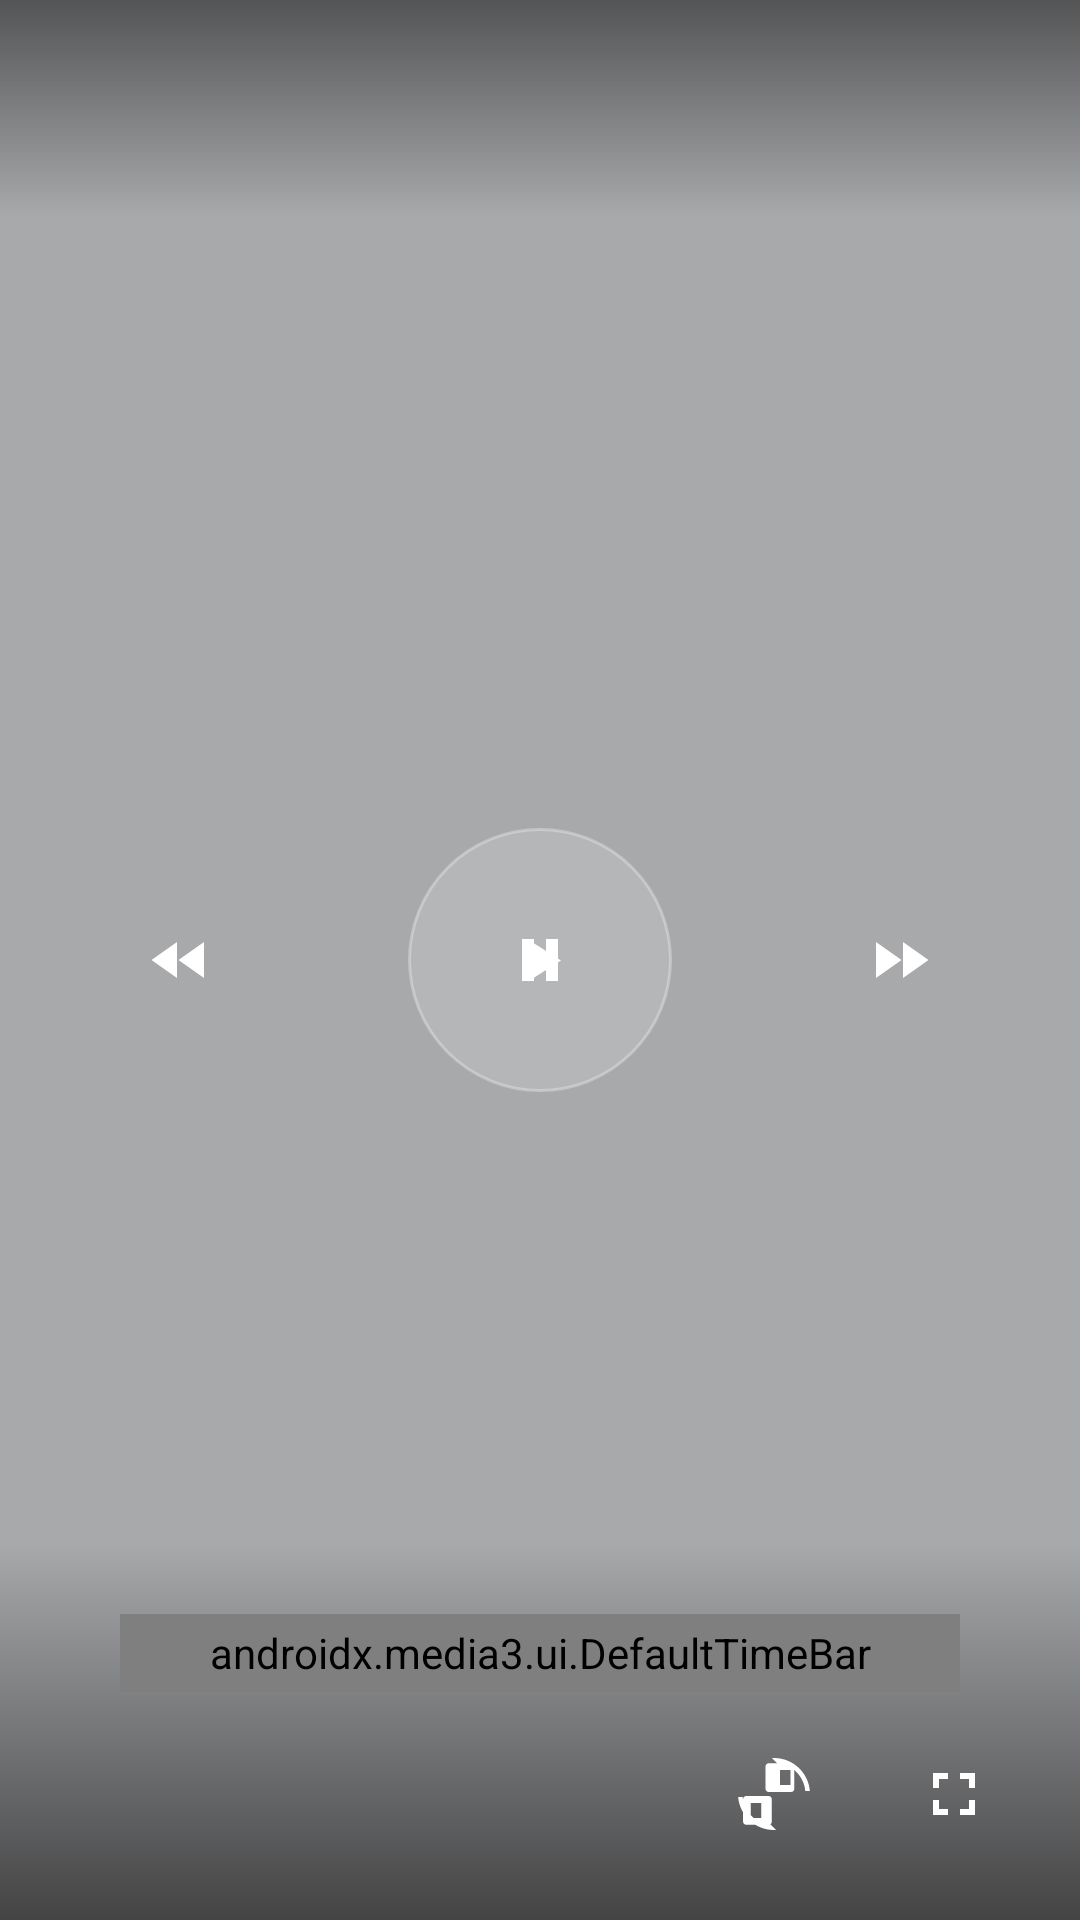

Where to tap for icons on this 1080 × 1920 app screen, as [x,y]:
forward: [902,960]
rewind: [178,960]
rotate: [774,1803]
